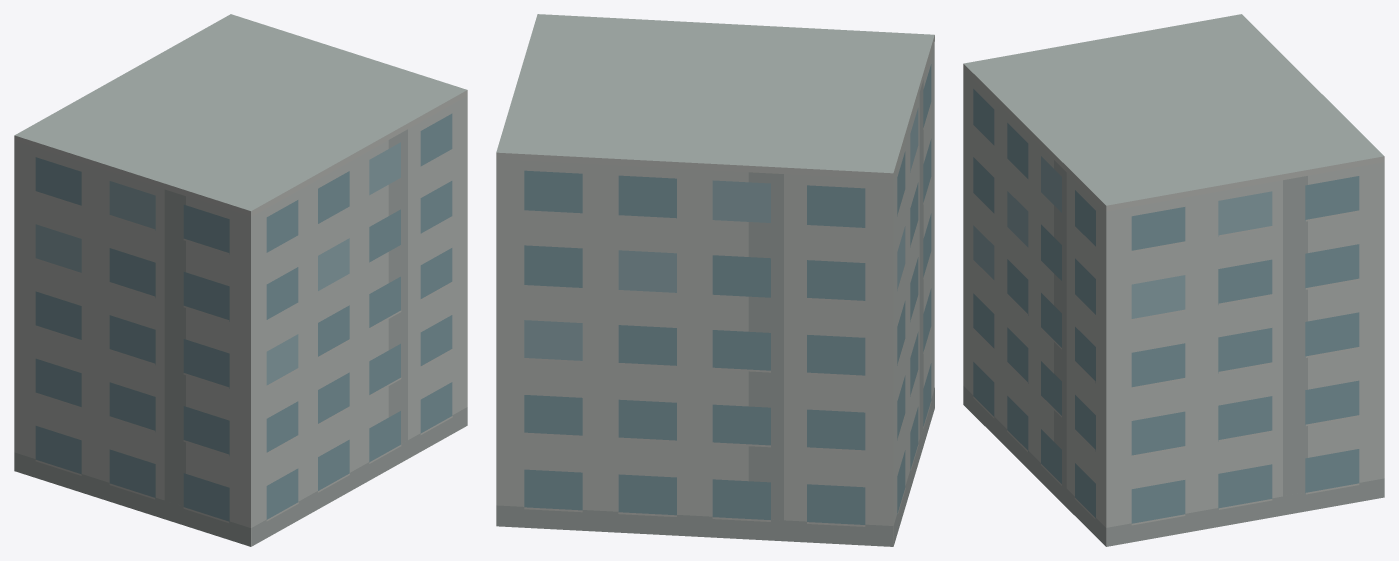
Rendered from survey-upis-32591291.glb.
The picture shows the model from 3 angles, left to right: view 1: azimuth 30°, elevation 25°; view 2: azimuth 150°, elevation 25°; view 3: azimuth 270°, elevation 25°; orthographic projection. The views are drawn at different scales.
Parts seen in each view (by area): view 1: survey-upis-32591291.tmp; view 2: survey-upis-32591291.tmp; view 3: survey-upis-32591291.tmp.
Part boxes in pixels (bbox=[...]): survey-upis-32591291.tmp: bbox=[14, 14, 467, 546]; survey-upis-32591291.tmp: bbox=[496, 14, 934, 546]; survey-upis-32591291.tmp: bbox=[963, 14, 1384, 546].
Bounding box in the file's own units: 16.88 × 14 × 15.67.
